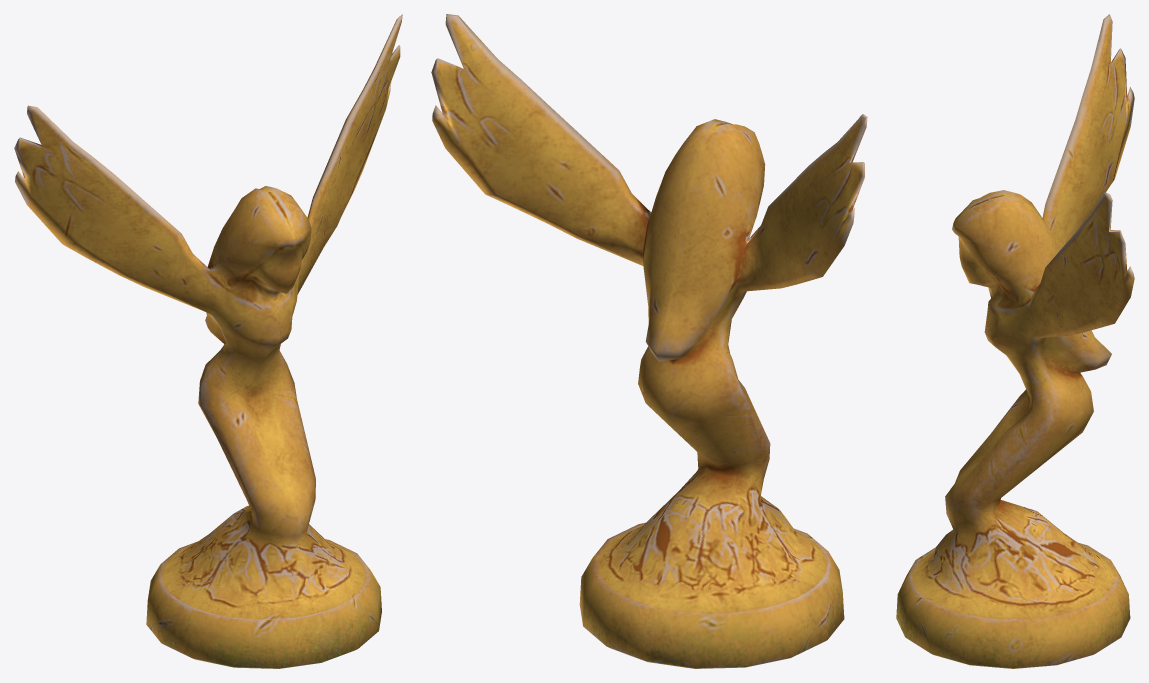
The model's file is sb_obj_ruins001_GoldStatue.fbx.
3 views of the same model, side by side, from view 1: azimuth 30°, elevation 25°; view 2: azimuth 150°, elevation 25°; view 3: azimuth 270°, elevation 25° (orthographic). The views are drawn at different scales.
Parts seen in each view (by area): view 1: sb_obj_ruins001_GoldStatue; view 2: sb_obj_ruins001_GoldStatue; view 3: sb_obj_ruins001_GoldStatue.
Part boxes in pixels (x1=…): sb_obj_ruins001_GoldStatue: x1=14, y1=14, x2=402, y2=668; sb_obj_ruins001_GoldStatue: x1=431, y1=14, x2=867, y2=668; sb_obj_ruins001_GoldStatue: x1=896, y1=14, x2=1134, y2=668.
Bounding box in the file's own units: 1.47 × 1.92 × 0.8011.
